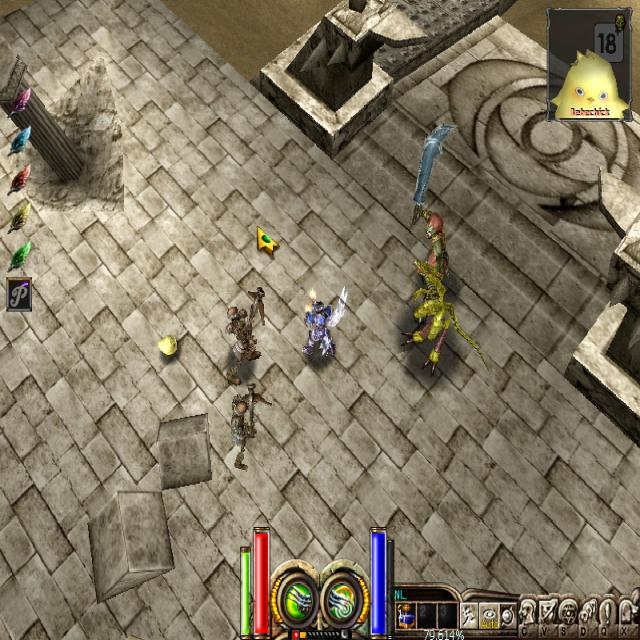monster: (403, 258, 465, 378), (222, 291, 267, 385), (404, 214, 461, 282), (227, 388, 261, 466), (158, 338, 182, 363)
